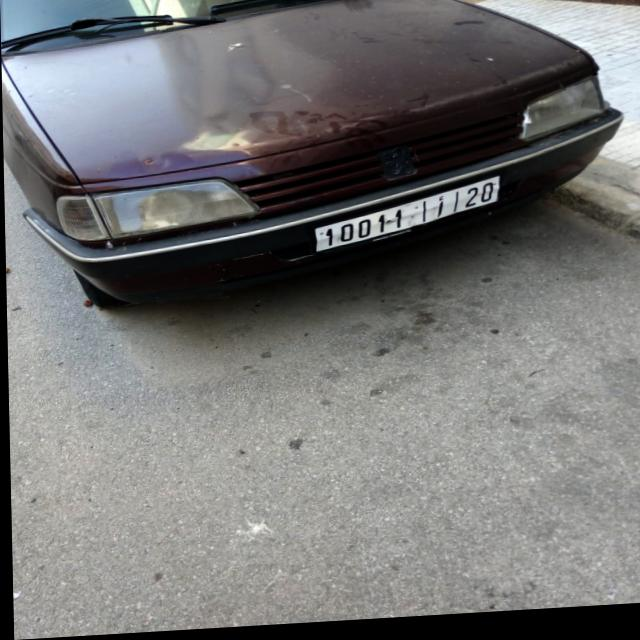License-Plate: (314, 183, 499, 255)
